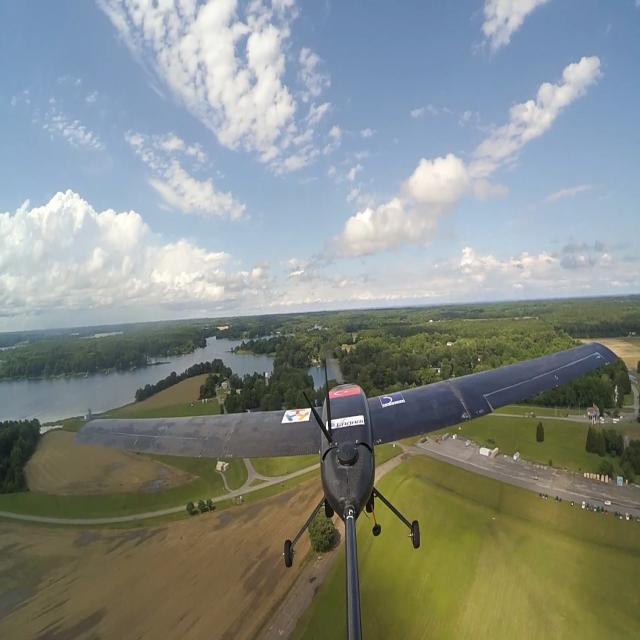iha: (72, 343, 619, 640)
